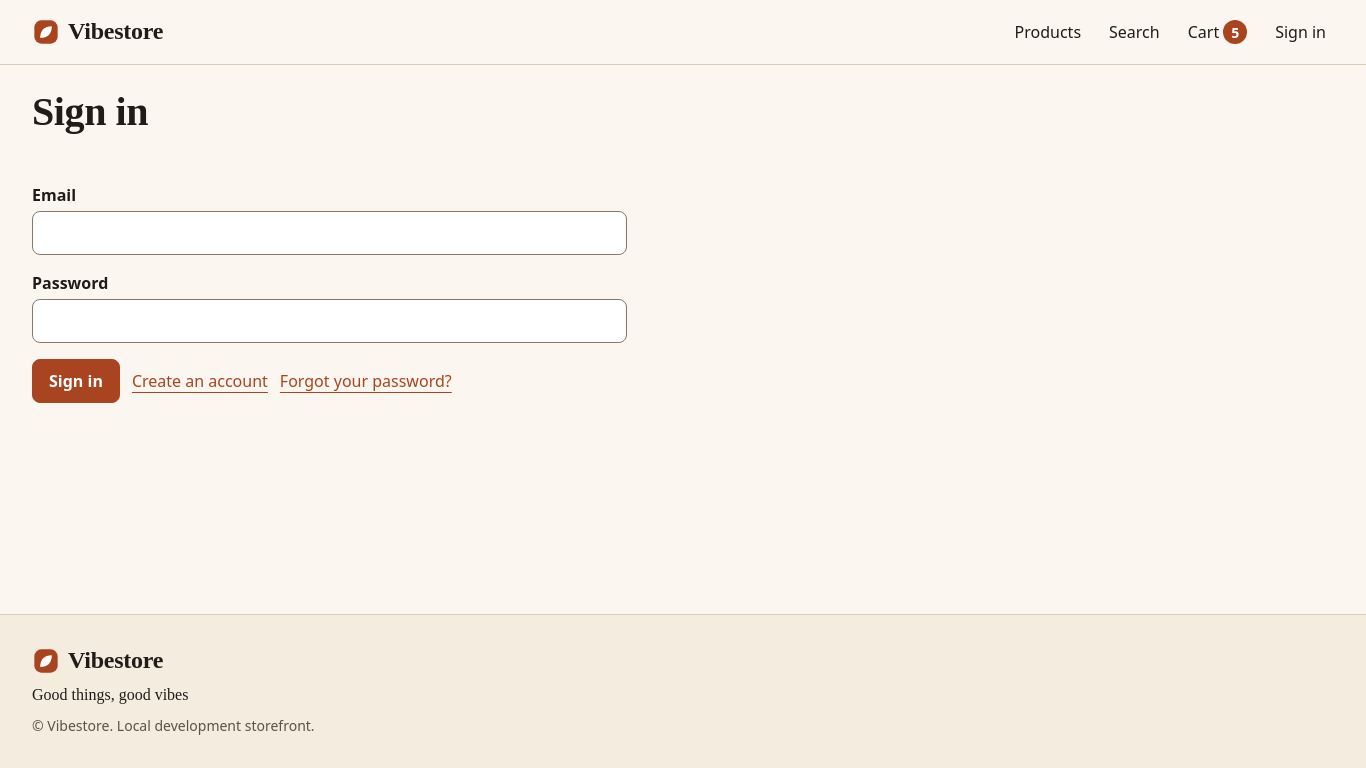
Test case: Sign in (FR-005, FR-014, redirect rule) › signs in, merges the anonymous cart, shows the capped lines once and lands on the validated next
The width and height of the screenshot is (1366, 768).
Expected: the heading "Sign in" is shown, [32,89,148,134]
Type "ana@example.com" into the field labelled "Email" at (329, 233), box [32,211,627,255]
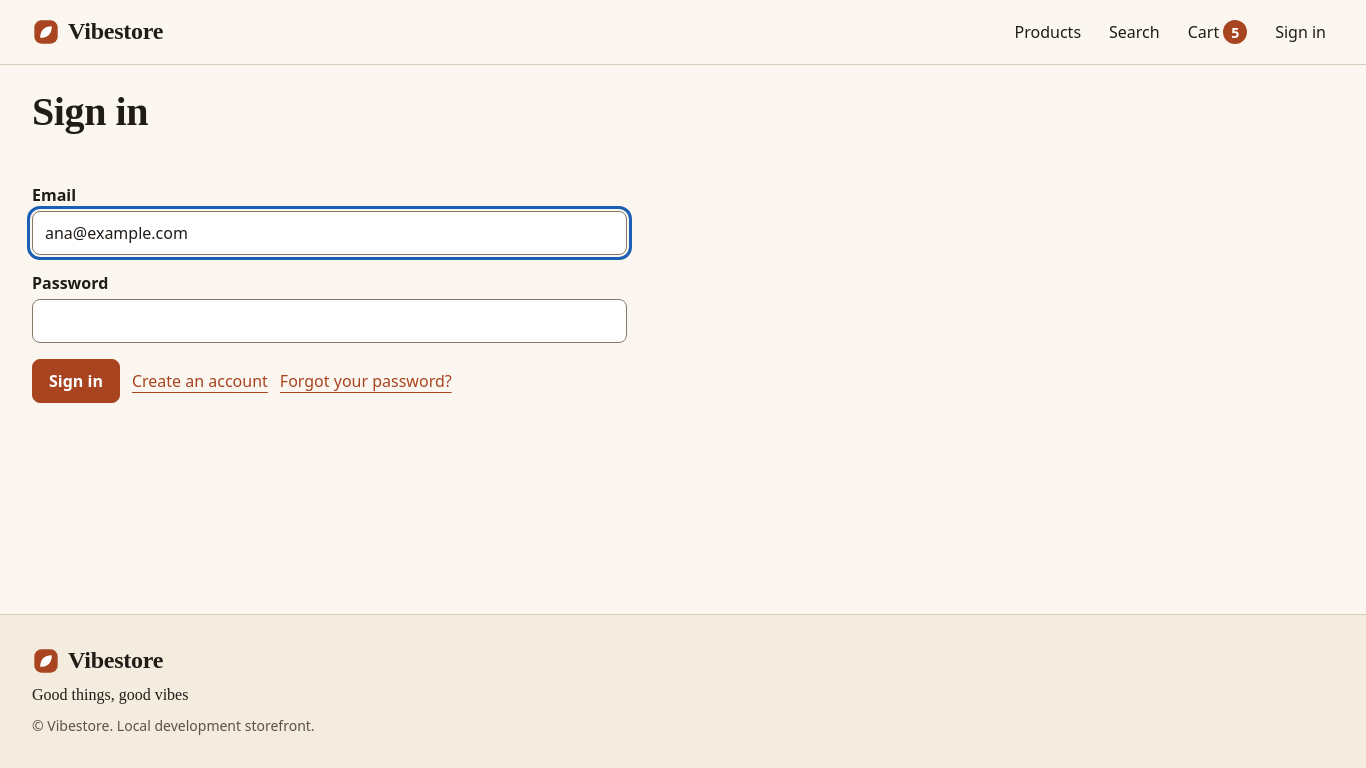
Type "S3cure-passphrase!" into the password field labelled "Password" at (329, 321), box [32,299,627,343]
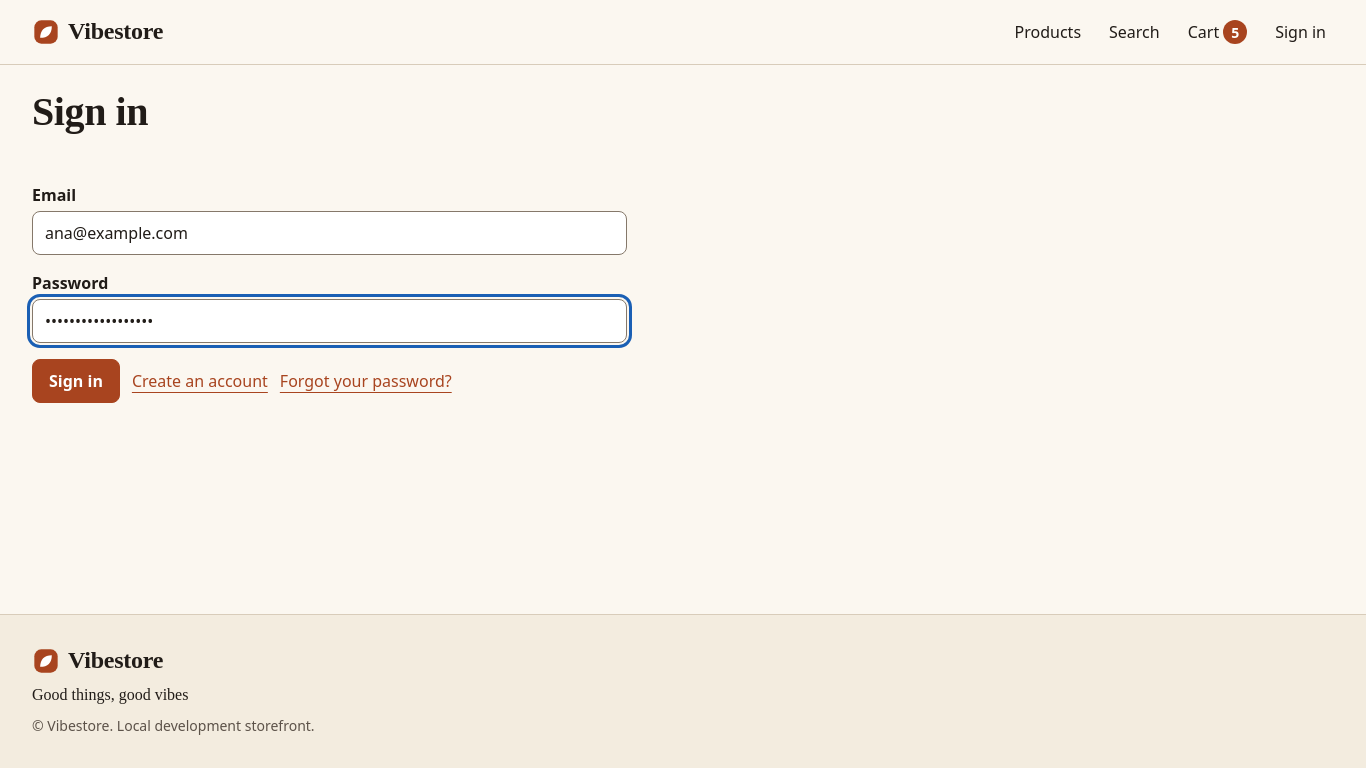
Click the button "Sign in" at (76, 381), box [32,359,120,403]
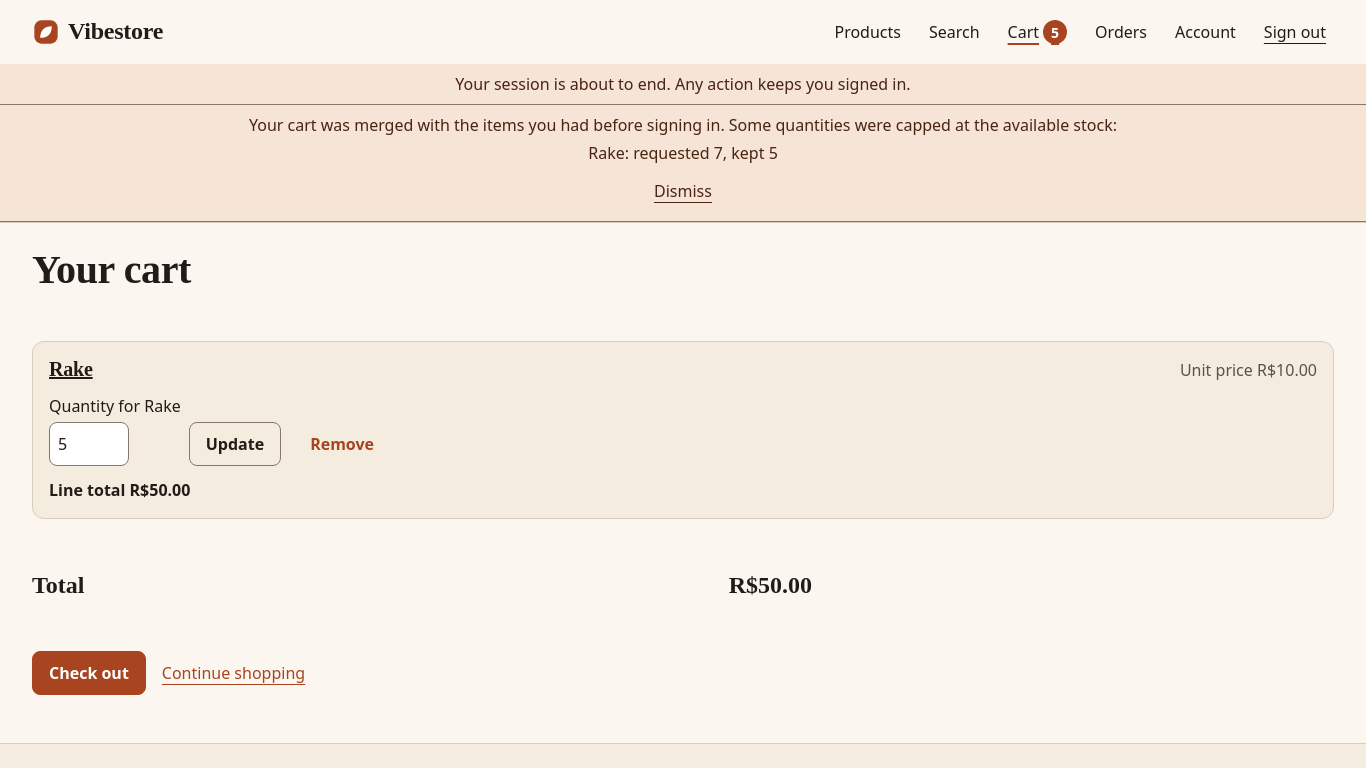
Expected: the button "Sign out" is shown, [1256,10,1334,54]
Click the button "Dismiss" at (683, 191), box [646,169,720,213]
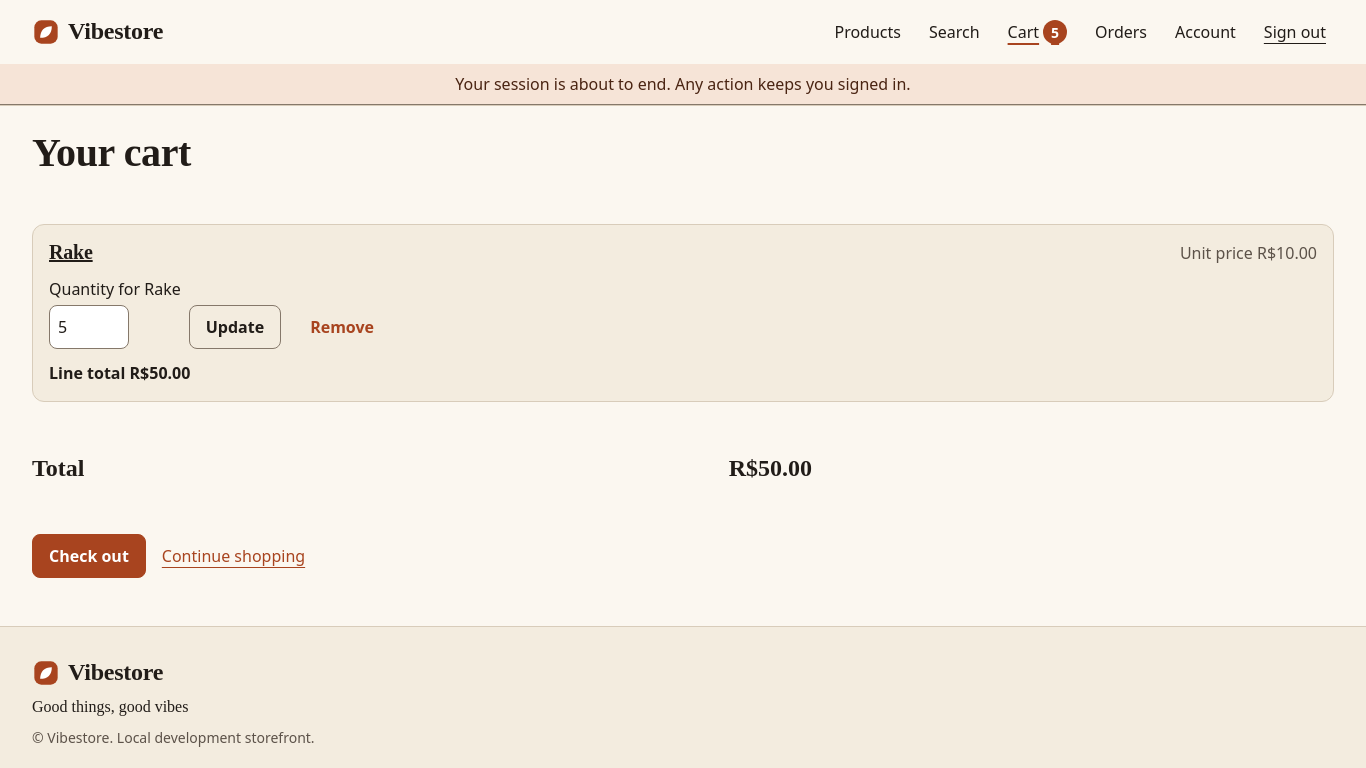
Expected: the heading "Your cart" is shown, [32,130,191,175]
Expected: the text "Your cart was merged" is gone
